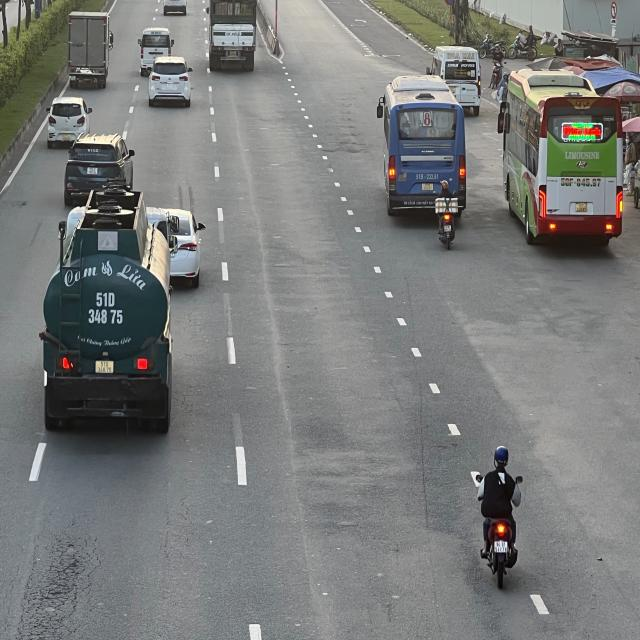car: (60, 134, 136, 200), (163, 208, 206, 288), (149, 56, 197, 107), (48, 98, 92, 148)
coach: (498, 68, 629, 245), (379, 76, 467, 220)
truck: (42, 194, 176, 436), (206, 1, 258, 72), (67, 9, 112, 84)
van: (426, 46, 482, 114), (138, 28, 174, 75)
